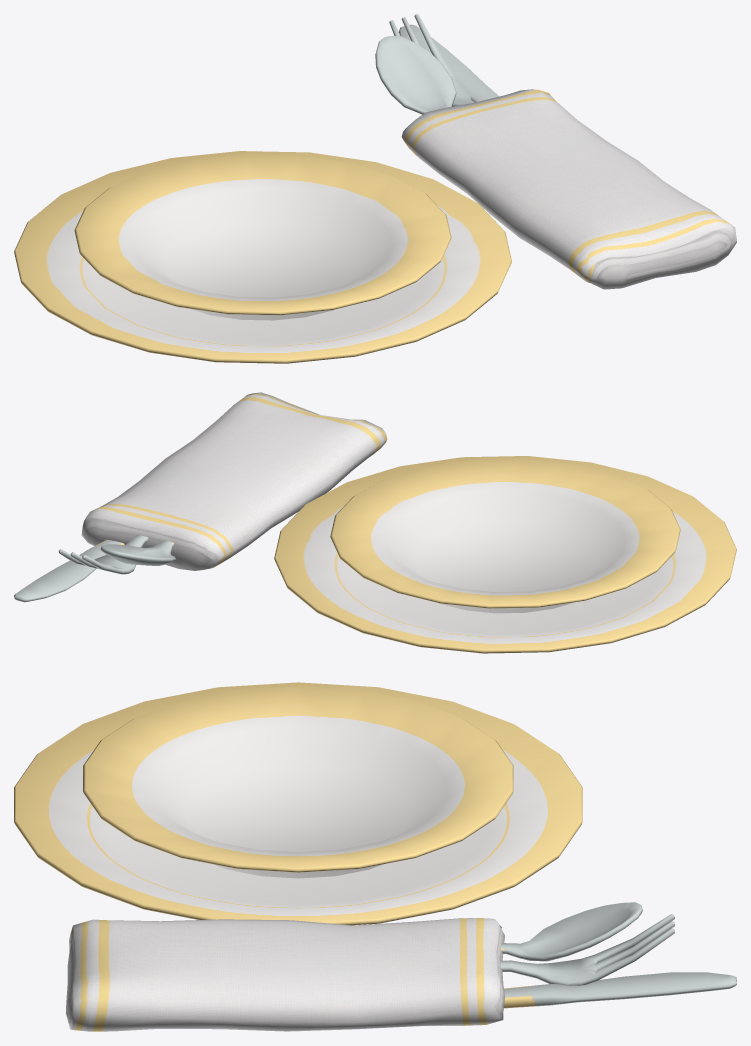
The model's file is TableWare01_5.FBX.
3 renders of one model, top to bottom at view 1: azimuth 30°, elevation 25°; view 2: azimuth 150°, elevation 25°; view 3: azimuth 270°, elevation 25°, orthographic. The views are drawn at different scales.
Visible parts, largest first — view 1: TableWare01_5; view 2: TableWare01_5; view 3: TableWare01_5.
Part boxes in pixels (left/top/right/bottom): TableWare01_5: left=14, top=14, right=736, bottom=363; TableWare01_5: left=14, top=392, right=736, bottom=653; TableWare01_5: left=14, top=682, right=736, bottom=1031.
Size of what is drawn, in the model's own units: 0.3989 by 0.0469 by 0.3644.
